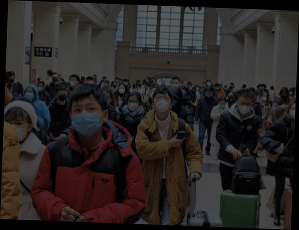with_mask: (70, 101, 105, 137), (4, 116, 30, 144), (153, 93, 172, 113), (237, 99, 252, 114), (127, 97, 140, 111), (24, 88, 36, 102), (56, 91, 68, 102), (288, 104, 296, 119), (36, 82, 45, 93), (69, 77, 78, 87), (149, 88, 157, 99), (260, 93, 269, 102), (280, 91, 290, 99), (117, 86, 126, 94), (218, 101, 226, 109), (51, 75, 60, 82), (171, 80, 180, 87), (8, 76, 16, 83), (86, 78, 94, 84), (205, 91, 213, 97), (228, 92, 234, 100), (206, 80, 212, 87), (132, 86, 138, 92), (112, 82, 118, 87), (214, 85, 220, 90)
without_mask: (161, 80, 166, 86)
